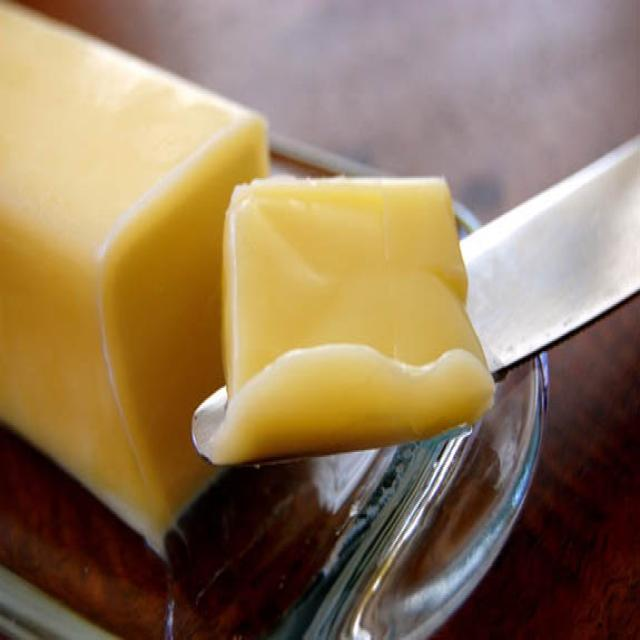Butter: (0, 0, 265, 551), (226, 180, 489, 438)
